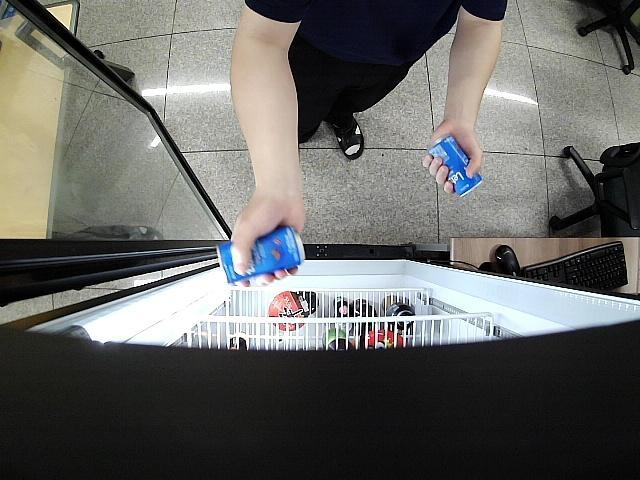15_letsbe: (214, 226, 307, 286), (428, 134, 484, 198)
